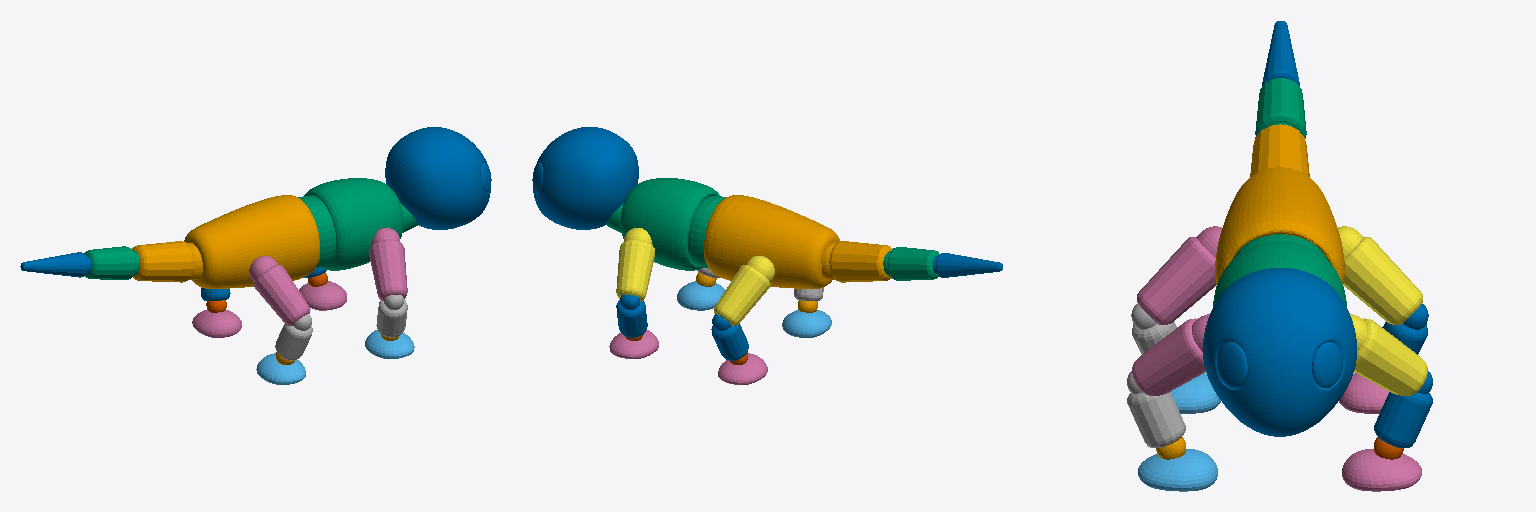
robot.urdf — lizard_robot:
<?xml version="1.0"?>
<robot name="lizard_robot">
  <link name="base_link">
    <inertial>
      <origin xyz="-0.562282 -0.000000 0.000041" rpy="0 0 0"/>
      <mass value="11.2332"/>
      <inertia ixx="0.859276" ixy="0" ixz="0" iyy="1.332609" iyz="0" izz="1.332609"/>
    </inertial>
    <visual>
      <origin xyz="0 0 0" rpy="0 0 0"/>
      <geometry><mesh filename="meshes/visual/base_link_visual.obj"/></geometry>
    </visual>
    <collision>
      <origin xyz="0 0 0" rpy="0 0 0"/>
      <geometry><mesh filename="meshes/collision/base_link_collision.obj"/></geometry>
    </collision>
  </link>
  <link name="chest_yaw">
    <inertial>
      <origin xyz="0.000000 0.000000 0.000000" rpy="0 0 0"/>
      <mass value="0.0500"/>
      <inertia ixx="0.000001" ixy="0" ixz="0" iyy="0.000001" iyz="0" izz="0.000001"/>
    </inertial>
  </link>
  <link name="chest_pitch">
    <inertial>
      <origin xyz="0.349711 -0.000000 0.000041" rpy="0 0 0"/>
      <mass value="15.7685"/>
      <inertia ixx="1.296527" ixy="0" ixz="0" iyy="2.740834" iyz="0" izz="2.740834"/>
    </inertial>
    <visual>
      <origin xyz="0 0 0" rpy="0 0 0"/>
      <geometry><mesh filename="meshes/visual/chest_pitch_visual.obj"/></geometry>
    </visual>
    <collision>
      <origin xyz="0 0 0" rpy="0 0 0"/>
      <geometry><mesh filename="meshes/collision/chest_pitch_collision.obj"/></geometry>
    </collision>
  </link>
  <link name="neck_yaw">
    <inertial>
      <origin xyz="0.000000 0.000000 0.000000" rpy="0 0 0"/>
      <mass value="0.0500"/>
      <inertia ixx="0.000001" ixy="0" ixz="0" iyy="0.000001" iyz="0" izz="0.000001"/>
    </inertial>
  </link>
  <link name="neck_pitch">
    <inertial>
      <origin xyz="-0.081966 -0.000000 0.001171" rpy="0 0 0"/>
      <mass value="11.0551"/>
      <inertia ixx="1.225541" ixy="0" ixz="0" iyy="1.263723" iyz="0" izz="1.239014"/>
    </inertial>
    <visual>
      <origin xyz="0 0 0" rpy="0 0 0"/>
      <geometry><mesh filename="meshes/visual/neck_pitch_visual.obj"/></geometry>
    </visual>
    <collision>
      <origin xyz="0 0 0" rpy="0 0 0"/>
      <geometry><mesh filename="meshes/collision/neck_pitch_collision.obj"/></geometry>
    </collision>
  </link>
  <link name="rf_hip">
    <inertial>
      <origin xyz="0.000000 0.000000 0.000000" rpy="0 0 0"/>
      <mass value="0.0500"/>
      <inertia ixx="0.000001" ixy="0" ixz="0" iyy="0.000001" iyz="0" izz="0.000001"/>
    </inertial>
  </link>
  <link name="rf_haa">
    <inertial>
      <origin xyz="-0.054663 -0.146500 -0.131327" rpy="0 0 0"/>
      <mass value="2.9020"/>
      <inertia ixx="0.130309" ixy="0" ixz="0" iyy="0.091086" iyz="0" izz="0.098815"/>
    </inertial>
    <visual>
      <origin xyz="0 0 0" rpy="0 0 0"/>
      <geometry><mesh filename="meshes/visual/rf_haa_visual.obj"/></geometry>
    </visual>
    <collision>
      <origin xyz="0 0 0" rpy="0 0 0"/>
      <geometry><mesh filename="meshes/collision/rf_haa_collision.obj"/></geometry>
    </collision>
  </link>
  <link name="rf_hfe">
    <inertial>
      <origin xyz="0.027453 0.075029 -0.135076" rpy="0 0 0"/>
      <mass value="1.6768"/>
      <inertia ixx="0.039199" ixy="0" ixz="0" iyy="0.035472" iyz="0" izz="0.023033"/>
    </inertial>
    <visual>
      <origin xyz="0 0 0" rpy="0 0 0"/>
      <geometry><mesh filename="meshes/visual/rf_hfe_visual.obj"/></geometry>
    </visual>
    <collision>
      <origin xyz="0 0 0" rpy="0 0 0"/>
      <geometry><mesh filename="meshes/collision/rf_hfe_collision.obj"/></geometry>
    </collision>
  </link>
  <link name="rf_kfe">
    <inertial>
      <origin xyz="-0.000000 0.000000 0.000000" rpy="0 0 0"/>
      <mass value="0.3730"/>
      <inertia ixx="0.001604" ixy="0" ixz="0" iyy="0.001575" iyz="0" izz="0.001571"/>
    </inertial>
    <visual>
      <origin xyz="0 0 0" rpy="0 0 0"/>
      <geometry><mesh filename="meshes/visual/rf_kfe_visual.obj"/></geometry>
    </visual>
  </link>
  <link name="rf_foot">
    <inertial>
      <origin xyz="-0.000002 -0.016158 0.008439" rpy="0 0 0"/>
      <mass value="1.5275"/>
      <inertia ixx="0.026315" ixy="0" ixz="0" iyy="0.021240" iyz="0" izz="0.040519"/>
    </inertial>
    <visual>
      <origin xyz="0 0 0" rpy="0 0 0"/>
      <geometry><mesh filename="meshes/visual/rf_foot_visual.obj"/></geometry>
    </visual>
    <collision>
      <origin xyz="0 0 0" rpy="0 0 0"/>
      <geometry><mesh filename="meshes/collision/rf_foot_collision.obj"/></geometry>
    </collision>
  </link>
  <link name="lf_hip">
    <inertial>
      <origin xyz="0.000000 0.000000 0.000000" rpy="0 0 0"/>
      <mass value="0.0500"/>
      <inertia ixx="0.000001" ixy="0" ixz="0" iyy="0.000001" iyz="0" izz="0.000001"/>
    </inertial>
  </link>
  <link name="lf_haa">
    <inertial>
      <origin xyz="-0.054663 0.146500 -0.131327" rpy="0 0 0"/>
      <mass value="2.9020"/>
      <inertia ixx="0.130309" ixy="0" ixz="0" iyy="0.091086" iyz="0" izz="0.098815"/>
    </inertial>
    <visual>
      <origin xyz="0 0 0" rpy="0 0 0"/>
      <geometry><mesh filename="meshes/visual/lf_haa_visual.obj"/></geometry>
    </visual>
    <collision>
      <origin xyz="0 0 0" rpy="0 0 0"/>
      <geometry><mesh filename="meshes/collision/lf_haa_collision.obj"/></geometry>
    </collision>
  </link>
  <link name="lf_hfe">
    <inertial>
      <origin xyz="0.027453 -0.075029 -0.135076" rpy="0 0 0"/>
      <mass value="1.6768"/>
      <inertia ixx="0.039199" ixy="0" ixz="0" iyy="0.035472" iyz="0" izz="0.023033"/>
    </inertial>
    <visual>
      <origin xyz="0 0 0" rpy="0 0 0"/>
      <geometry><mesh filename="meshes/visual/lf_hfe_visual.obj"/></geometry>
    </visual>
    <collision>
      <origin xyz="0 0 0" rpy="0 0 0"/>
      <geometry><mesh filename="meshes/collision/lf_hfe_collision.obj"/></geometry>
    </collision>
  </link>
  <link name="lf_kfe">
    <inertial>
      <origin xyz="0.000000 -0.000000 0.000000" rpy="0 0 0"/>
      <mass value="0.3730"/>
      <inertia ixx="0.001604" ixy="0" ixz="0" iyy="0.001575" iyz="0" izz="0.001571"/>
    </inertial>
    <visual>
      <origin xyz="0 0 0" rpy="0 0 0"/>
      <geometry><mesh filename="meshes/visual/lf_kfe_visual.obj"/></geometry>
    </visual>
  </link>
  <link name="lf_foot">
    <inertial>
      <origin xyz="-0.000002 0.016158 0.008439" rpy="0 0 0"/>
      <mass value="1.5275"/>
      <inertia ixx="0.026315" ixy="0" ixz="0" iyy="0.021240" iyz="0" izz="0.040519"/>
    </inertial>
    <visual>
      <origin xyz="0 0 0" rpy="0 0 0"/>
      <geometry><mesh filename="meshes/visual/lf_foot_visual.obj"/></geometry>
    </visual>
    <collision>
      <origin xyz="0 0 0" rpy="0 0 0"/>
      <geometry><mesh filename="meshes/collision/lf_foot_collision.obj"/></geometry>
    </collision>
  </link>
  <link name="tail1_yaw">
    <inertial>
      <origin xyz="0.000000 0.000000 0.000000" rpy="0 0 0"/>
      <mass value="0.0500"/>
      <inertia ixx="0.000001" ixy="0" ixz="0" iyy="0.000001" iyz="0" izz="0.000001"/>
    </inertial>
  </link>
  <link name="tail1_pitch">
    <inertial>
      <origin xyz="-0.189871 -0.000016 0.042445" rpy="0 0 0"/>
      <mass value="3.9061"/>
      <inertia ixx="0.082824" ixy="0" ixz="0" iyy="0.201096" iyz="0" izz="0.188209"/>
    </inertial>
    <visual>
      <origin xyz="0 0 0" rpy="0 0 0"/>
      <geometry><mesh filename="meshes/visual/tail1_pitch_visual.obj"/></geometry>
    </visual>
    <collision>
      <origin xyz="0 0 0" rpy="0 0 0"/>
      <geometry><mesh filename="meshes/collision/tail1_pitch_collision.obj"/></geometry>
    </collision>
  </link>
  <link name="tail2_yaw">
    <inertial>
      <origin xyz="0.000000 0.000000 0.000000" rpy="0 0 0"/>
      <mass value="0.0500"/>
      <inertia ixx="0.000001" ixy="0" ixz="0" iyy="0.000001" iyz="0" izz="0.000001"/>
    </inertial>
  </link>
  <link name="tail2_pitch">
    <inertial>
      <origin xyz="-0.151109 -0.000150 0.142132" rpy="0 0 0"/>
      <mass value="2.3105"/>
      <inertia ixx="0.032569" ixy="0" ixz="0" iyy="0.072166" iyz="0" izz="0.067493"/>
    </inertial>
    <visual>
      <origin xyz="0 0 0" rpy="0 0 0"/>
      <geometry><mesh filename="meshes/visual/tail2_pitch_visual.obj"/></geometry>
    </visual>
    <collision>
      <origin xyz="0 0 0" rpy="0 0 0"/>
      <geometry><mesh filename="meshes/collision/tail2_pitch_collision.obj"/></geometry>
    </collision>
  </link>
  <link name="tail3_yaw">
    <inertial>
      <origin xyz="0.000000 0.000000 0.000000" rpy="0 0 0"/>
      <mass value="0.0500"/>
      <inertia ixx="0.000001" ixy="0" ixz="0" iyy="0.000001" iyz="0" izz="0.000001"/>
    </inertial>
  </link>
  <link name="tail3_pitch">
    <inertial>
      <origin xyz="-0.228054 -0.000235 0.221088" rpy="0 0 0"/>
      <mass value="1.5595"/>
      <inertia ixx="0.012586" ixy="0" ixz="0" iyy="0.062226" iyz="0" izz="0.060246"/>
    </inertial>
    <visual>
      <origin xyz="0 0 0" rpy="0 0 0"/>
      <geometry><mesh filename="meshes/visual/tail3_pitch_visual.obj"/></geometry>
    </visual>
    <collision>
      <origin xyz="0 0 0" rpy="0 0 0"/>
      <geometry><mesh filename="meshes/collision/tail3_pitch_collision.obj"/></geometry>
    </collision>
  </link>
  <link name="rr_hip">
    <inertial>
      <origin xyz="0.000000 0.000000 0.000000" rpy="0 0 0"/>
      <mass value="0.0500"/>
      <inertia ixx="0.000001" ixy="0" ixz="0" iyy="0.000001" iyz="0" izz="0.000001"/>
    </inertial>
  </link>
  <link name="rr_haa">
    <inertial>
      <origin xyz="0.054663 -0.146480 -0.131350" rpy="0 0 0"/>
      <mass value="2.9020"/>
      <inertia ixx="0.130319" ixy="0" ixz="0" iyy="0.091104" iyz="0" izz="0.098812"/>
    </inertial>
    <visual>
      <origin xyz="0 0 0" rpy="0 0 0"/>
      <geometry><mesh filename="meshes/visual/rr_haa_visual.obj"/></geometry>
    </visual>
    <collision>
      <origin xyz="0 0 0" rpy="0 0 0"/>
      <geometry><mesh filename="meshes/collision/rr_haa_collision.obj"/></geometry>
    </collision>
  </link>
  <link name="rr_hfe">
    <inertial>
      <origin xyz="-0.027454 0.075028 -0.135076" rpy="0 0 0"/>
      <mass value="1.6768"/>
      <inertia ixx="0.039198" ixy="0" ixz="0" iyy="0.035472" iyz="0" izz="0.023033"/>
    </inertial>
    <visual>
      <origin xyz="0 0 0" rpy="0 0 0"/>
      <geometry><mesh filename="meshes/visual/rr_hfe_visual.obj"/></geometry>
    </visual>
    <collision>
      <origin xyz="0 0 0" rpy="0 0 0"/>
      <geometry><mesh filename="meshes/collision/rr_hfe_collision.obj"/></geometry>
    </collision>
  </link>
  <link name="rr_kfe">
    <inertial>
      <origin xyz="-0.000000 -0.000000 0.000000" rpy="0 0 0"/>
      <mass value="0.3730"/>
      <inertia ixx="0.001604" ixy="0" ixz="0" iyy="0.001575" iyz="0" izz="0.001570"/>
    </inertial>
    <visual>
      <origin xyz="0 0 0" rpy="0 0 0"/>
      <geometry><mesh filename="meshes/visual/rr_kfe_visual.obj"/></geometry>
    </visual>
  </link>
  <link name="rr_foot">
    <inertial>
      <origin xyz="-0.000002 -0.015693 0.004808" rpy="0 0 0"/>
      <mass value="1.5275"/>
      <inertia ixx="0.026317" ixy="0" ixz="0" iyy="0.021227" iyz="0" izz="0.040534"/>
    </inertial>
    <visual>
      <origin xyz="0 0 0" rpy="0 0 0"/>
      <geometry><mesh filename="meshes/visual/rr_foot_visual.obj"/></geometry>
    </visual>
    <collision>
      <origin xyz="0 0 0" rpy="0 0 0"/>
      <geometry><mesh filename="meshes/collision/rr_foot_collision.obj"/></geometry>
    </collision>
  </link>
  <link name="rl_hip">
    <inertial>
      <origin xyz="0.000000 0.000000 0.000000" rpy="0 0 0"/>
      <mass value="0.0500"/>
      <inertia ixx="0.000001" ixy="0" ixz="0" iyy="0.000001" iyz="0" izz="0.000001"/>
    </inertial>
  </link>
  <link name="rl_haa">
    <inertial>
      <origin xyz="0.054663 0.146480 -0.131350" rpy="0 0 0"/>
      <mass value="2.9020"/>
      <inertia ixx="0.130319" ixy="0" ixz="0" iyy="0.091104" iyz="0" izz="0.098812"/>
    </inertial>
    <visual>
      <origin xyz="0 0 0" rpy="0 0 0"/>
      <geometry><mesh filename="meshes/visual/rl_haa_visual.obj"/></geometry>
    </visual>
    <collision>
      <origin xyz="0 0 0" rpy="0 0 0"/>
      <geometry><mesh filename="meshes/collision/rl_haa_collision.obj"/></geometry>
    </collision>
  </link>
  <link name="rl_hfe">
    <inertial>
      <origin xyz="-0.027453 -0.075028 -0.135076" rpy="0 0 0"/>
      <mass value="1.6768"/>
      <inertia ixx="0.039198" ixy="0" ixz="0" iyy="0.035472" iyz="0" izz="0.023033"/>
    </inertial>
    <visual>
      <origin xyz="0 0 0" rpy="0 0 0"/>
      <geometry><mesh filename="meshes/visual/rl_hfe_visual.obj"/></geometry>
    </visual>
    <collision>
      <origin xyz="0 0 0" rpy="0 0 0"/>
      <geometry><mesh filename="meshes/collision/rl_hfe_collision.obj"/></geometry>
    </collision>
  </link>
  <link name="rl_kfe">
    <inertial>
      <origin xyz="-0.000000 -0.000000 -0.000000" rpy="0 0 0"/>
      <mass value="0.3730"/>
      <inertia ixx="0.001604" ixy="0" ixz="0" iyy="0.001575" iyz="0" izz="0.001570"/>
    </inertial>
    <visual>
      <origin xyz="0 0 0" rpy="0 0 0"/>
      <geometry><mesh filename="meshes/visual/rl_kfe_visual.obj"/></geometry>
    </visual>
  </link>
  <link name="rl_foot">
    <inertial>
      <origin xyz="-0.000002 0.015693 0.004808" rpy="0 0 0"/>
      <mass value="1.5275"/>
      <inertia ixx="0.026317" ixy="0" ixz="0" iyy="0.021227" iyz="0" izz="0.040534"/>
    </inertial>
    <visual>
      <origin xyz="0 0 0" rpy="0 0 0"/>
      <geometry><mesh filename="meshes/visual/rl_foot_visual.obj"/></geometry>
    </visual>
    <collision>
      <origin xyz="0 0 0" rpy="0 0 0"/>
      <geometry><mesh filename="meshes/collision/rl_foot_collision.obj"/></geometry>
    </collision>
  </link>
  <joint name="chest_yaw_joint" type="revolute">
    <parent link="base_link"/>
    <child link="chest_yaw"/>
    <origin xyz="0.000000 0.000000 0.000000" rpy="0 0 0"/>
    <axis xyz="0 0 1"/>
    <limit lower="-0.60" upper="0.60" effort="80" velocity="4"/>
  </joint>
  <joint name="chest_pitch_joint" type="revolute">
    <parent link="chest_yaw"/>
    <child link="chest_pitch"/>
    <origin xyz="-0.005000 0.000000 0.000000" rpy="0 0 0"/>
    <axis xyz="0 1 0"/>
    <limit lower="-0.50" upper="0.50" effort="80" velocity="4"/>
  </joint>
  <joint name="neck_yaw_joint" type="revolute">
    <parent link="chest_pitch"/>
    <child link="neck_yaw"/>
    <origin xyz="1.261300 -0.000000 0.189500" rpy="0 0 0"/>
    <axis xyz="0 0 1"/>
    <limit lower="-0.60" upper="0.60" effort="80" velocity="4"/>
  </joint>
  <joint name="neck_pitch_joint" type="revolute">
    <parent link="neck_yaw"/>
    <child link="neck_pitch"/>
    <origin xyz="0.005000 -0.000000 0.000000" rpy="0 0 0"/>
    <axis xyz="0 1 0"/>
    <limit lower="-0.50" upper="0.50" effort="80" velocity="4"/>
  </joint>
  <joint name="rf_hip_joint" type="revolute">
    <parent link="chest_pitch"/>
    <child link="rf_hip"/>
    <origin xyz="0.485375 -0.359465 -0.055891" rpy="0 0 0"/>
    <axis xyz="0 0 1"/>
    <limit lower="-0.60" upper="0.60" effort="120" velocity="8"/>
  </joint>
  <joint name="rf_haa_joint" type="revolute">
    <parent link="rf_hip"/>
    <child link="rf_haa"/>
    <origin xyz="0.000000 0.000000 0.000000" rpy="0 0 0"/>
    <axis xyz="-0.939693 0.342020 0.000000"/>
    <limit lower="-0.60" upper="0.60" effort="120" velocity="8"/>
  </joint>
  <joint name="rf_hfe_joint" type="revolute">
    <parent link="rf_haa"/>
    <child link="rf_hfe"/>
    <origin xyz="-0.131432 -0.361107 -0.322451" rpy="0 0 0"/>
    <axis xyz="-0.939693 0.342020 0.000000"/>
    <limit lower="-1.20" upper="1.20" effort="150" velocity="8"/>
  </joint>
  <joint name="rf_kfe_joint" type="revolute">
    <parent link="rf_hfe"/>
    <child link="rf_kfe"/>
    <origin xyz="0.055233 0.151752 -0.346319" rpy="0 0 0"/>
    <axis xyz="-0.939693 0.342020 0.000000"/>
    <limit lower="-1.60" upper="1.60" effort="150" velocity="8"/>
  </joint>
  <joint name="rf_foot_joint" type="revolute">
    <parent link="rf_kfe"/>
    <child link="rf_foot"/>
    <origin xyz="0.018899 0.051926 -0.118502" rpy="0 0 0"/>
    <axis xyz="0.342020 0.939693 0.000000"/>
    <limit lower="-0.50" upper="0.50" effort="30" velocity="6"/>
  </joint>
  <joint name="lf_hip_joint" type="revolute">
    <parent link="chest_pitch"/>
    <child link="lf_hip"/>
    <origin xyz="0.485375 0.359465 -0.055891" rpy="0 0 0"/>
    <axis xyz="0 0 1"/>
    <limit lower="-0.60" upper="0.60" effort="120" velocity="8"/>
  </joint>
  <joint name="lf_haa_joint" type="revolute">
    <parent link="lf_hip"/>
    <child link="lf_haa"/>
    <origin xyz="0.000000 0.000000 0.000000" rpy="0 0 0"/>
    <axis xyz="-0.939693 -0.342020 0.000000"/>
    <limit lower="-0.60" upper="0.60" effort="120" velocity="8"/>
  </joint>
  <joint name="lf_hfe_joint" type="revolute">
    <parent link="lf_haa"/>
    <child link="lf_hfe"/>
    <origin xyz="-0.131432 0.361107 -0.322451" rpy="0 0 0"/>
    <axis xyz="-0.939693 -0.342020 0.000000"/>
    <limit lower="-1.20" upper="1.20" effort="150" velocity="8"/>
  </joint>
  <joint name="lf_kfe_joint" type="revolute">
    <parent link="lf_hfe"/>
    <child link="lf_kfe"/>
    <origin xyz="0.055233 -0.151752 -0.346319" rpy="0 0 0"/>
    <axis xyz="-0.939693 -0.342020 0.000000"/>
    <limit lower="-1.60" upper="1.60" effort="150" velocity="8"/>
  </joint>
  <joint name="lf_foot_joint" type="revolute">
    <parent link="lf_kfe"/>
    <child link="lf_foot"/>
    <origin xyz="0.018899 -0.051926 -0.118502" rpy="0 0 0"/>
    <axis xyz="-0.342020 0.939693 0.000000"/>
    <limit lower="-0.50" upper="0.50" effort="30" velocity="6"/>
  </joint>
  <joint name="tail1_yaw_joint" type="revolute">
    <parent link="base_link"/>
    <child link="tail1_yaw"/>
    <origin xyz="-1.069600 0.000000 0.000000" rpy="0 0 0"/>
    <axis xyz="0 0 1"/>
    <limit lower="-0.60" upper="0.60" effort="80" velocity="4"/>
  </joint>
  <joint name="tail1_pitch_joint" type="revolute">
    <parent link="tail1_yaw"/>
    <child link="tail1_pitch"/>
    <origin xyz="-0.005000 0.000000 0.000000" rpy="0 0 0"/>
    <axis xyz="0 1 0"/>
    <limit lower="-0.50" upper="0.50" effort="80" velocity="4"/>
  </joint>
  <joint name="tail2_yaw_joint" type="revolute">
    <parent link="tail1_pitch"/>
    <child link="tail2_yaw"/>
    <origin xyz="-0.539200 0.005500 0.000000" rpy="0 0 0"/>
    <axis xyz="0 0 1"/>
    <limit lower="-0.60" upper="0.60" effort="80" velocity="4"/>
  </joint>
  <joint name="tail2_pitch_joint" type="revolute">
    <parent link="tail2_yaw"/>
    <child link="tail2_pitch"/>
    <origin xyz="-0.005000 0.000000 0.000000" rpy="0 0 0"/>
    <axis xyz="0 1 0"/>
    <limit lower="-0.50" upper="0.50" effort="80" velocity="4"/>
  </joint>
  <joint name="tail3_yaw_joint" type="revolute">
    <parent link="tail2_pitch"/>
    <child link="tail3_yaw"/>
    <origin xyz="-0.429900 0.000000 0.000000" rpy="0 0 0"/>
    <axis xyz="0 0 1"/>
    <limit lower="-0.60" upper="0.60" effort="80" velocity="4"/>
  </joint>
  <joint name="tail3_pitch_joint" type="revolute">
    <parent link="tail3_yaw"/>
    <child link="tail3_pitch"/>
    <origin xyz="-0.005000 0.000000 0.000000" rpy="0 0 0"/>
    <axis xyz="0 1 0"/>
    <limit lower="-0.50" upper="0.50" effort="80" velocity="4"/>
  </joint>
  <joint name="rr_hip_joint" type="revolute">
    <parent link="base_link"/>
    <child link="rr_hip"/>
    <origin xyz="-0.602861 -0.335820 -0.055928" rpy="0 0 0"/>
    <axis xyz="0 0 1"/>
    <limit lower="-0.60" upper="0.60" effort="120" velocity="8"/>
  </joint>
  <joint name="rr_haa_joint" type="revolute">
    <parent link="rr_hip"/>
    <child link="rr_haa"/>
    <origin xyz="0.000000 0.000000 0.000000" rpy="0 0 0"/>
    <axis xyz="-0.939693 -0.342020 0.000000"/>
    <limit lower="-0.60" upper="0.60" effort="120" velocity="8"/>
  </joint>
  <joint name="rr_hfe_joint" type="revolute">
    <parent link="rr_haa"/>
    <child link="rr_hfe"/>
    <origin xyz="0.131436 -0.361117 -0.322460" rpy="0 0 0"/>
    <axis xyz="-0.939693 -0.342020 0.000000"/>
    <limit lower="-1.20" upper="1.20" effort="150" velocity="8"/>
  </joint>
  <joint name="rr_kfe_joint" type="revolute">
    <parent link="rr_hfe"/>
    <child link="rr_kfe"/>
    <origin xyz="-0.055233 0.151752 -0.346319" rpy="0 0 0"/>
    <axis xyz="-0.939693 -0.342020 0.000000"/>
    <limit lower="-1.60" upper="1.60" effort="150" velocity="8"/>
  </joint>
  <joint name="rr_foot_joint" type="revolute">
    <parent link="rr_kfe"/>
    <child link="rr_foot"/>
    <origin xyz="-0.018899 0.051926 -0.118501" rpy="0 0 0"/>
    <axis xyz="-0.342020 0.939693 0.000000"/>
    <limit lower="-0.50" upper="0.50" effort="30" velocity="6"/>
  </joint>
  <joint name="rl_hip_joint" type="revolute">
    <parent link="base_link"/>
    <child link="rl_hip"/>
    <origin xyz="-0.602861 0.335819 -0.055928" rpy="0 0 0"/>
    <axis xyz="0 0 1"/>
    <limit lower="-0.60" upper="0.60" effort="120" velocity="8"/>
  </joint>
  <joint name="rl_haa_joint" type="revolute">
    <parent link="rl_hip"/>
    <child link="rl_haa"/>
    <origin xyz="0.000000 0.000000 0.000000" rpy="0 0 0"/>
    <axis xyz="-0.939693 0.342020 0.000000"/>
    <limit lower="-0.60" upper="0.60" effort="120" velocity="8"/>
  </joint>
  <joint name="rl_hfe_joint" type="revolute">
    <parent link="rl_haa"/>
    <child link="rl_hfe"/>
    <origin xyz="0.131436 0.361117 -0.322460" rpy="0 0 0"/>
    <axis xyz="-0.939693 0.342020 0.000000"/>
    <limit lower="-1.20" upper="1.20" effort="150" velocity="8"/>
  </joint>
  <joint name="rl_kfe_joint" type="revolute">
    <parent link="rl_hfe"/>
    <child link="rl_kfe"/>
    <origin xyz="-0.055233 -0.151752 -0.346319" rpy="0 0 0"/>
    <axis xyz="-0.939693 0.342020 0.000000"/>
    <limit lower="-1.60" upper="1.60" effort="150" velocity="8"/>
  </joint>
  <joint name="rl_foot_joint" type="revolute">
    <parent link="rl_kfe"/>
    <child link="rl_foot"/>
    <origin xyz="-0.018899 -0.051926 -0.118501" rpy="0 0 0"/>
    <axis xyz="0.342020 0.939693 0.000000"/>
    <limit lower="-0.50" upper="0.50" effort="30" velocity="6"/>
  </joint>
</robot>

--- What the picture shows (computed from the rendered views, not written in the file) ---
The picture shows the robot from 3 angles, left to right: view 1: azimuth 30°, elevation 25°; view 2: azimuth 150°, elevation 25°; view 3: azimuth 270°, elevation 25°; orthographic projection.
Robot: lizard_robot — 31 links, 30 joints (30 revolute); root link base_link; default pose: every joint at zero.
Links seen in each view (by area): view 1: base_link, neck_pitch, chest_pitch, tail1_pitch, rr_haa, rf_haa, tail2_pitch, tail3_pitch, rr_hfe, rf_hfe, rl_foot, rr_foot (+2 smaller); view 2: base_link, neck_pitch, chest_pitch, tail1_pitch, rl_haa, lf_haa, tail2_pitch, tail3_pitch, rl_hfe, lf_hfe, rr_foot, rl_foot (+2 smaller); view 3: neck_pitch, base_link, rr_haa, rl_haa, rf_haa, lf_haa, chest_pitch, rf_foot, lf_foot, rf_hfe, lf_hfe, tail1_pitch (+6 smaller).
Link boxes in pixels (<box>): base_link: <box>184,195,319,288</box>; neck_pitch: <box>385,127,491,229</box>; chest_pitch: <box>298,178,418,270</box>; tail1_pitch: <box>132,241,202,282</box>; rr_haa: <box>249,256,310,325</box>; rf_haa: <box>369,228,407,300</box>; tail2_pitch: <box>84,246,139,279</box>; tail3_pitch: <box>20,252,90,277</box>; rr_hfe: <box>275,314,312,360</box>; rf_hfe: <box>376,295,407,337</box>; rl_foot: <box>192,310,241,337</box>; rr_foot: <box>256,353,305,384</box>; base_link: <box>704,195,840,288</box>; neck_pitch: <box>532,127,638,229</box>; chest_pitch: <box>606,178,725,270</box>; tail1_pitch: <box>822,241,891,282</box>; rl_haa: <box>714,256,774,325</box>; lf_haa: <box>616,228,654,301</box>; tail2_pitch: <box>883,247,938,280</box>; tail3_pitch: <box>933,253,1002,277</box>; rl_hfe: <box>711,314,748,360</box>; lf_hfe: <box>616,295,647,337</box>; rr_foot: <box>782,310,831,337</box>; rl_foot: <box>718,353,767,384</box>; neck_pitch: <box>1203,268,1356,436</box>; base_link: <box>1215,167,1344,283</box>; rr_haa: <box>1137,226,1221,324</box>; rl_haa: <box>1338,226,1422,324</box>; rf_haa: <box>1132,314,1209,395</box>; lf_haa: <box>1350,314,1427,395</box>; chest_pitch: <box>1213,234,1346,306</box>; rf_foot: <box>1138,449,1217,491</box>; lf_foot: <box>1342,449,1421,491</box>; rf_hfe: <box>1127,371,1185,447</box>; lf_hfe: <box>1374,371,1432,447</box>; tail1_pitch: <box>1250,124,1309,176</box>.
Size in the robot's own frame: 4.2 by 1.6 by 1.52 metres.
Meshes: 22 distinct files referenced, 22 mesh visuals loaded (22 OBJ).
